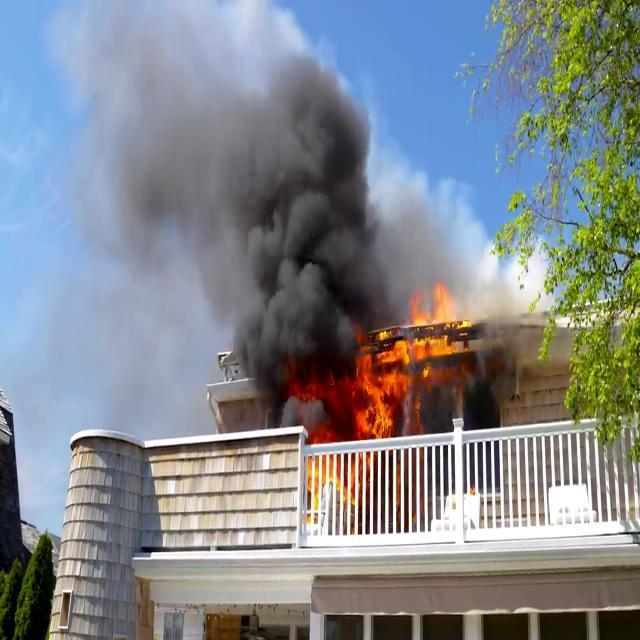Fire: (340, 304, 456, 454), (302, 419, 353, 518)
Smoke: (55, 1, 371, 420), (406, 147, 556, 422)
